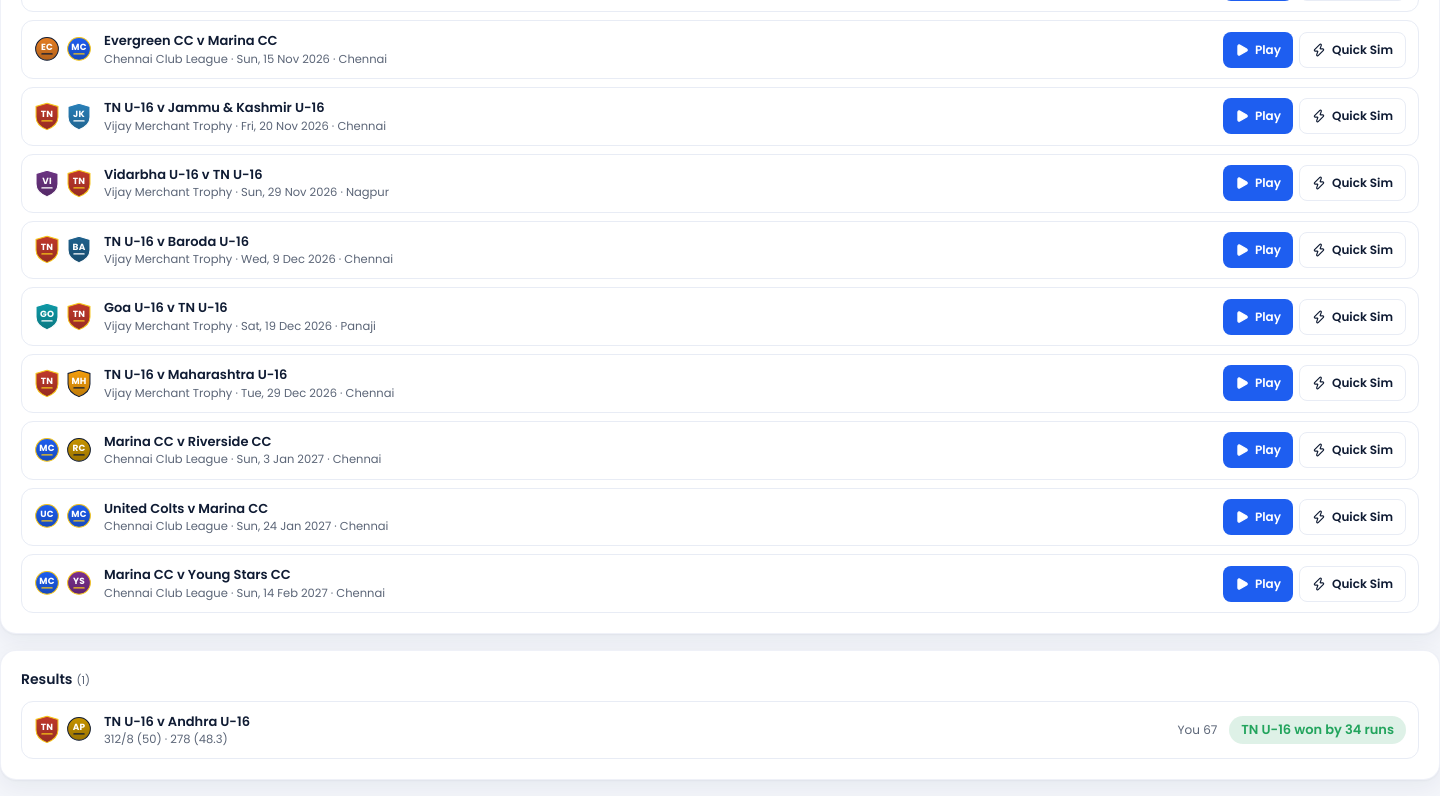
Test case: match screens: career mode › lists fixtures and results, and opens a full scorecard
The image size is (1440, 796).
(page scrolled)
Click the link "Andhra U-16". click: [129, 721]
box: left=21, top=700, right=1419, bottom=759
(page scrolled)
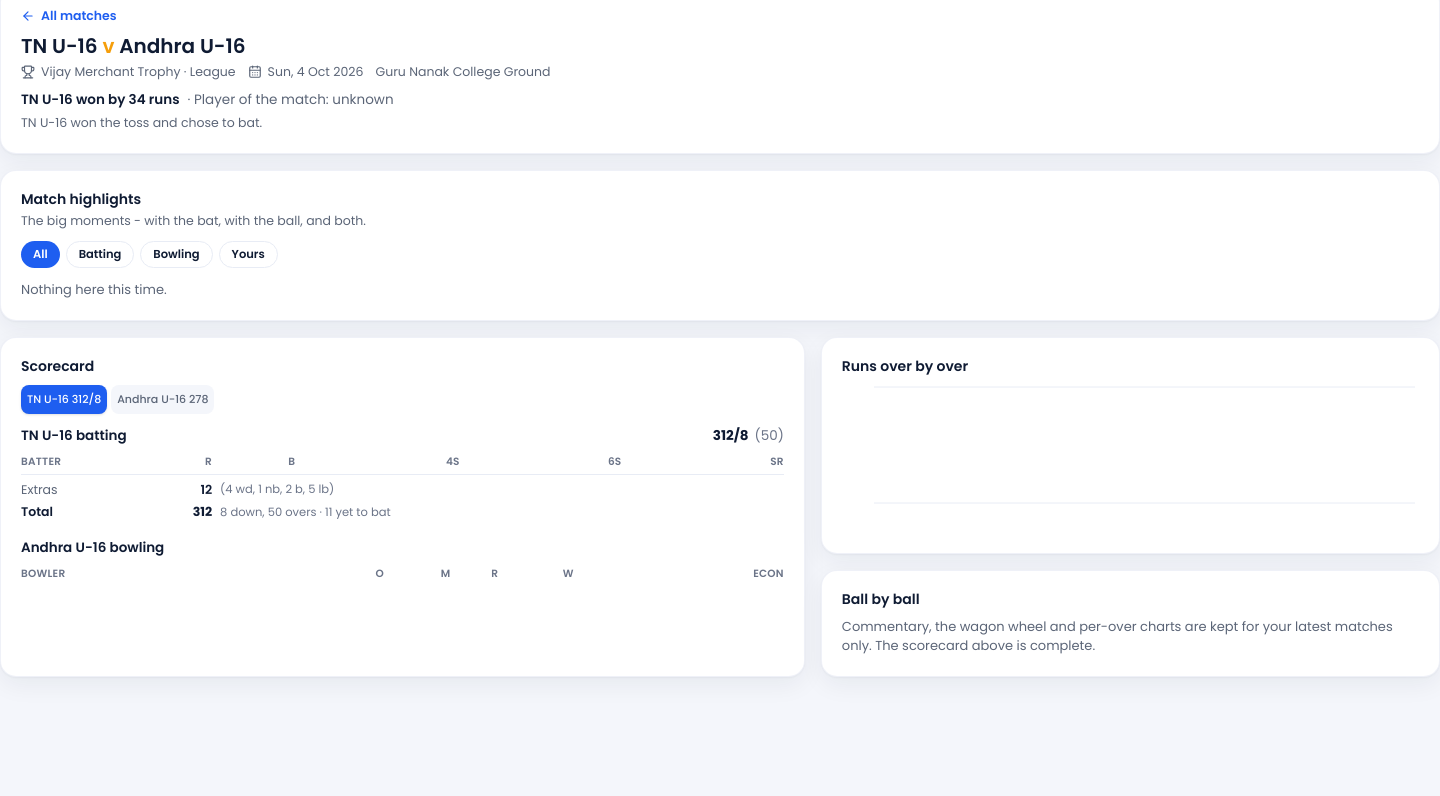
Check: the link "All matches" is shown, box left=21, top=7, right=117, bottom=26
